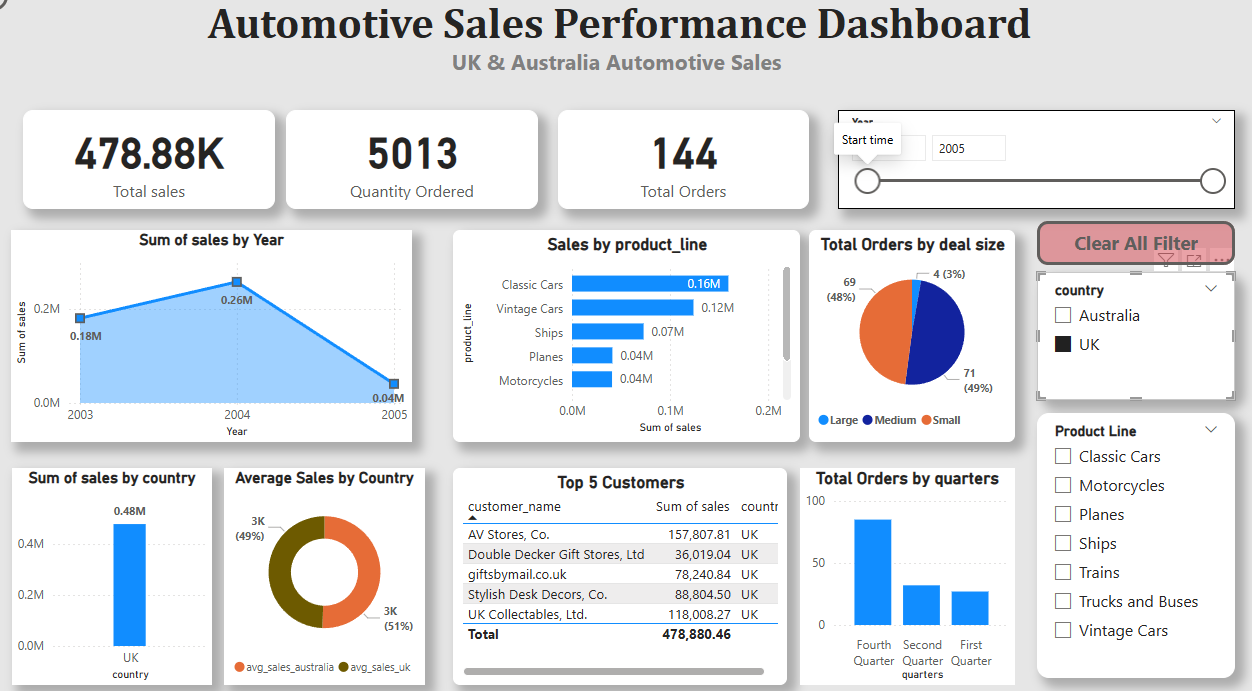

The page's visual inventory and layout, read from the dashboard file:
{"tool":"powerbi","page":{"name":"Dashboard","canvas":[1280,720],"ordinal":0},"visuals":[{"type":"textbox","box":[117,16,1059,99],"z":0},{"type":"card","fields":{"Values":["Sum(Working sheet.sales)"]},"box":[50,134,252,99],"z":1000},{"type":"card","fields":{"Values":["Sum(Working sheet.quantity_ordered)"]},"box":[313,134,252,99],"z":2000},{"type":"card","fields":{"Values":["Working sheet.Total Orders"]},"box":[585,134,251,99],"z":3000},{"type":"lineChart","fields":{"Y":["Sum(Working sheet.sales)"],"Category":["Working sheet.order_date.Variation.Date Hierarchy.Year"]},"box":[38,254,401,212],"z":4000},{"type":"barChart","title":"Sales by product_line","fields":{"Y":["Sum(Working sheet.sales)"],"Category":["Working sheet.product_line"]},"box":[480,254,347,212],"z":5000},{"type":"clusteredColumnChart","fields":{"Y":["Sum(Working sheet.sales)"],"Category":["Working sheet.country"]},"box":[39,492,200,217],"z":6000},{"type":"tableEx","title":"Top 5 Customers","fields":{"Values":["Working sheet.customer_name","Sum(Working sheet.sales)","Working sheet.country"]},"box":[480,492,334,217],"z":7000},{"type":"columnChart","fields":{"Category":["Working sheet.quarters"],"Y":["Working sheet.Total Orders"]},"box":[827,492,215,217],"z":8000},{"type":"slicer","fields":{"Values":["Working sheet.order_date.Variation.Date Hierarchy.Year"]},"box":[865,134,397,99],"z":9000},{"type":"slicer","fields":{"Values":["Working sheet.country"]},"box":[1064,296,198,128],"z":10000},{"type":"slicer","fields":{"Values":["Working sheet.product_line"]},"box":[1064,437,198,265],"z":11000},{"type":"actionButton","box":[1064,245,198,44],"z":12000},{"type":"pieChart","title":"Total Orders by deal size","fields":{"Category":["Working sheet.deal_size"],"Y":["Working sheet.Total Orders"]},"box":[836,254,206,212],"z":13000},{"type":"donutChart","title":"Average Sales by Country","fields":{"Y":["Working sheet.avg_sales_australia","Working sheet.avg_sales_uk"]},"box":[251,492,201,217],"z":14000},{"type":"actionButton","box":[0,0,100,40],"z":14001}]}

Visuals, with their boxes in screenshot pixels (x1, y1, x2, y2), scaled from the page's 1280x720 canvas onto the 1252x691 screenshot:
textbox: x1=114, y1=15, x2=1150, y2=110
card - Sum(Working sheet.sales): x1=49, y1=129, x2=295, y2=224
card - Sum(Working sheet.quantity_ordered): x1=306, y1=129, x2=553, y2=224
card - Working sheet.Total Orders: x1=572, y1=129, x2=818, y2=224
lineChart - Sum(Working sheet.sales) x Working sheet.order_date.Variation.Date Hierarchy.Year: x1=37, y1=244, x2=429, y2=447
"Sales by product_line" barChart: x1=470, y1=244, x2=809, y2=447
clusteredColumnChart - Sum(Working sheet.sales) x Working sheet.country: x1=38, y1=472, x2=234, y2=680
"Top 5 Customers" tableEx: x1=470, y1=472, x2=796, y2=680
columnChart - Working sheet.quarters x Working sheet.Total Orders: x1=809, y1=472, x2=1019, y2=680
slicer - Working sheet.order_date.Variation.Date Hierarchy.Year: x1=846, y1=129, x2=1234, y2=224
slicer - Working sheet.country: x1=1041, y1=284, x2=1234, y2=407
slicer - Working sheet.product_line: x1=1041, y1=419, x2=1234, y2=674
actionButton: x1=1041, y1=235, x2=1234, y2=277
"Total Orders by deal size" pieChart: x1=818, y1=244, x2=1019, y2=447
"Average Sales by Country" donutChart: x1=246, y1=472, x2=442, y2=680
actionButton: x1=0, y1=0, x2=98, y2=38
